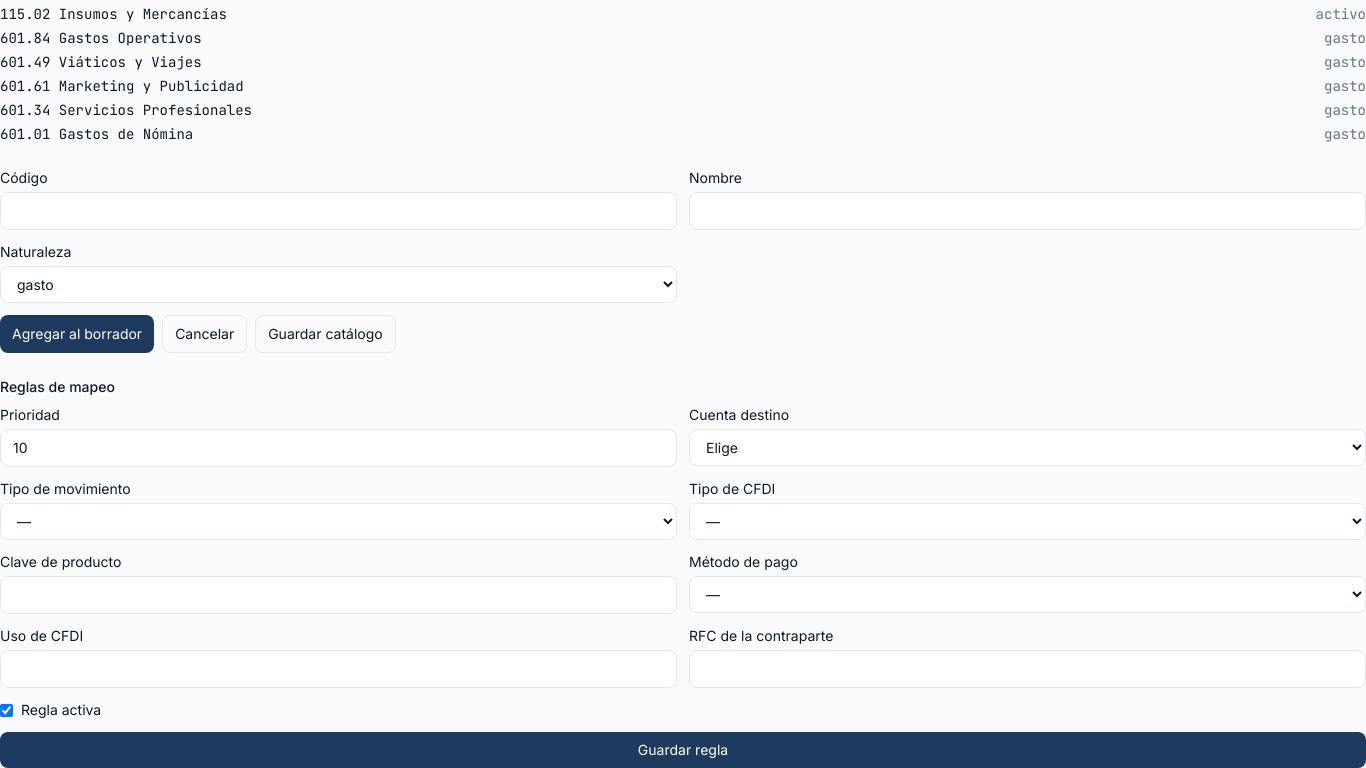
Test: ChartOfAccountsSection › no guarda una clave de producto que no tiene 8 dígitos
This screenshot has width=1366, height=768.
(page scrolled)
Select "601.84 Gastos Operativos" in the dropdown named "Cuenta destino de la regla" at (1028, 448), box [689,429,1365,466]
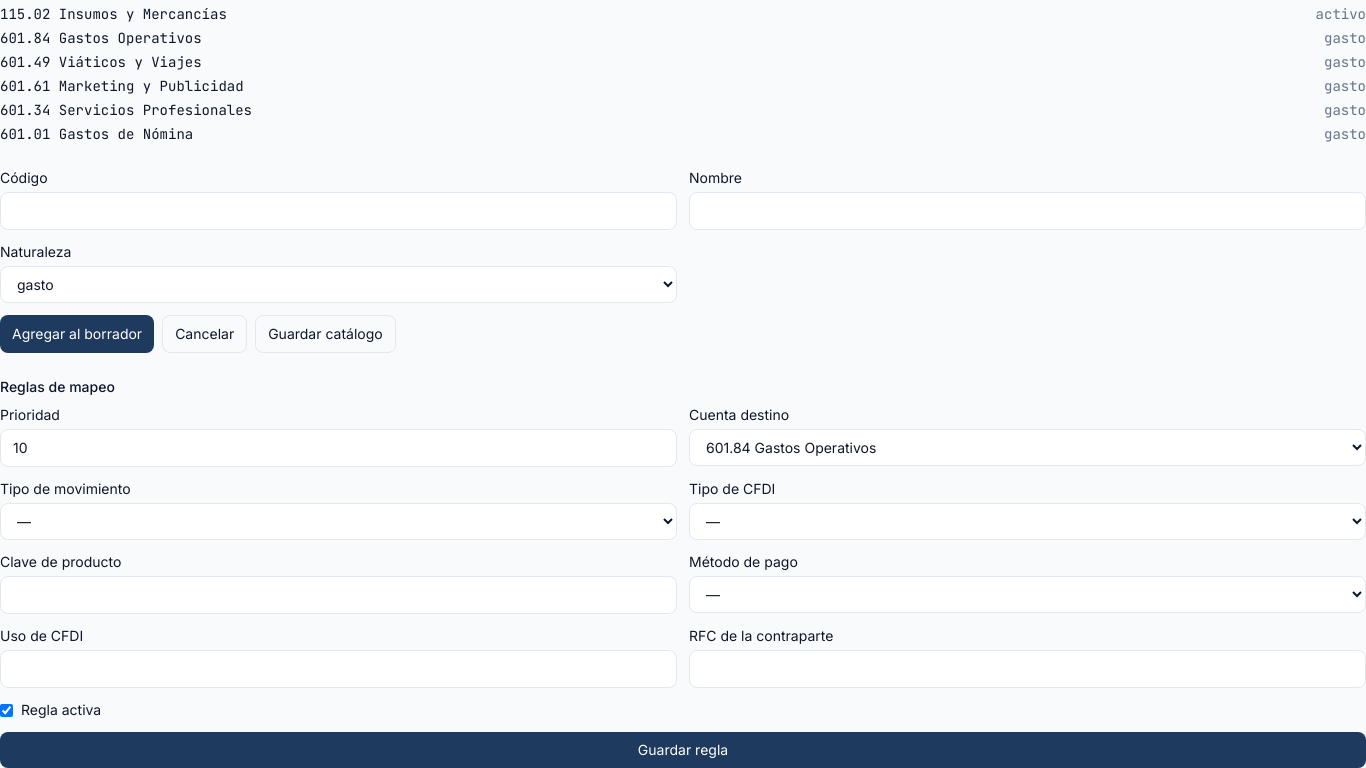
Type "123" into the field labelled "Clave de producto" at (338, 595), box [0,576,677,614]
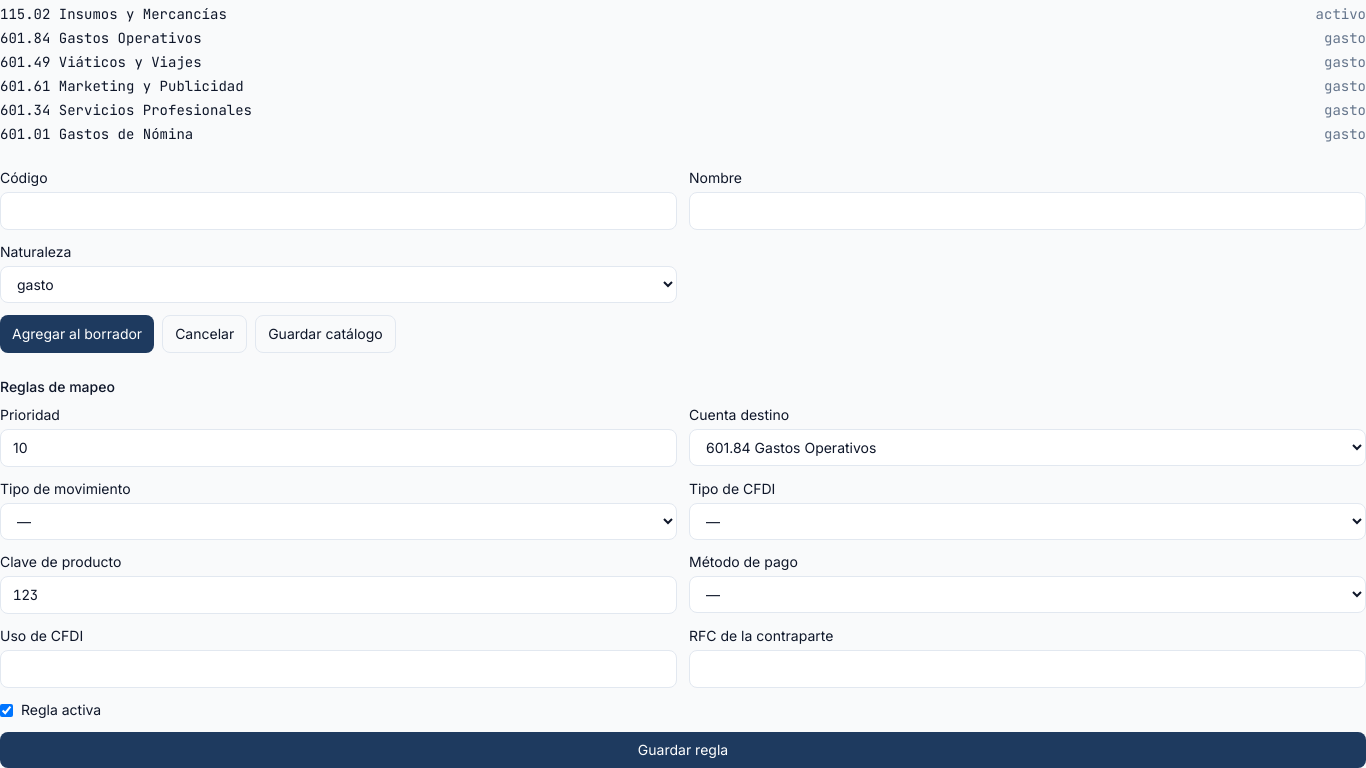
Click the button "Guardar regla" at (683, 750), box [0,732,1365,767]
(page scrolled)
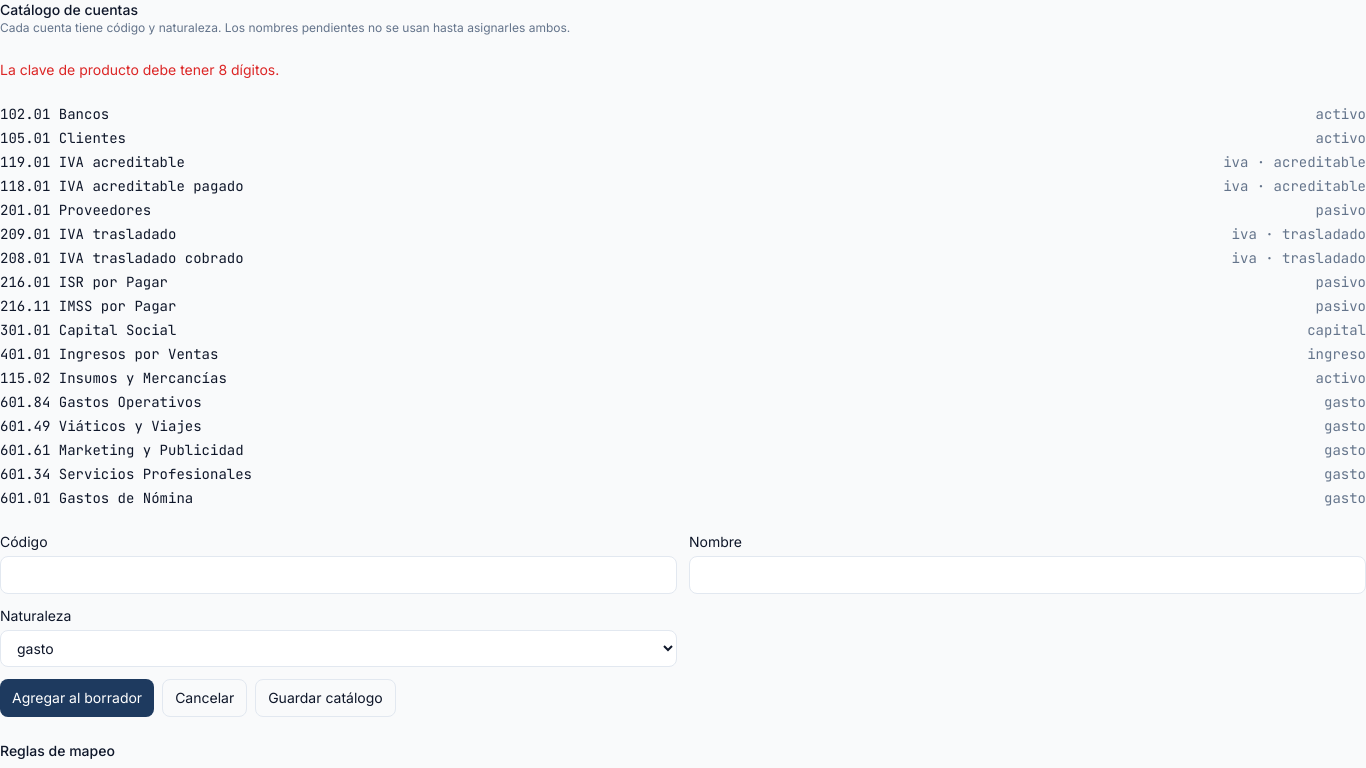
Check: the message shows "8 dígitos", box [0,61,279,78]
